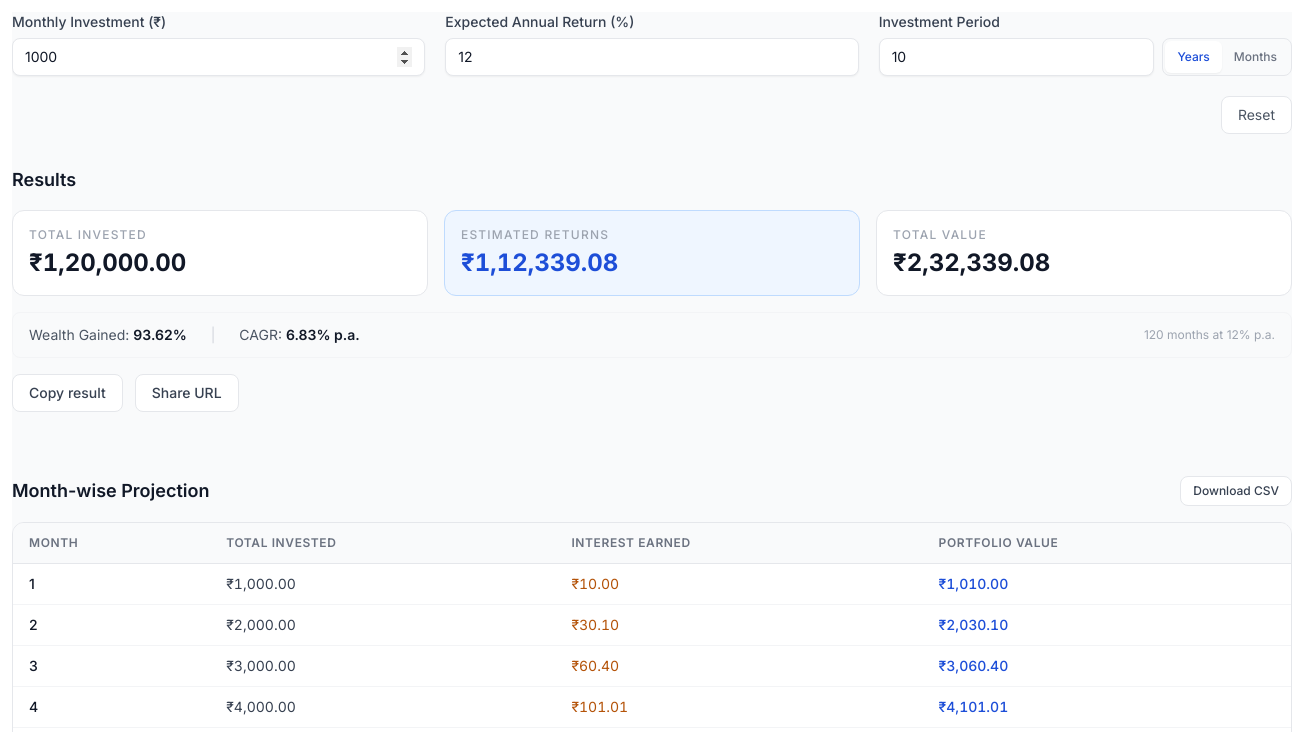
Test case: SIPCalculator › reset restores default rate (12)
Replace the text in the number field labelled "Expected Annual Return (%)" with "25": {"x": 652, "y": 57} x1=445 y1=38 x2=859 y2=76
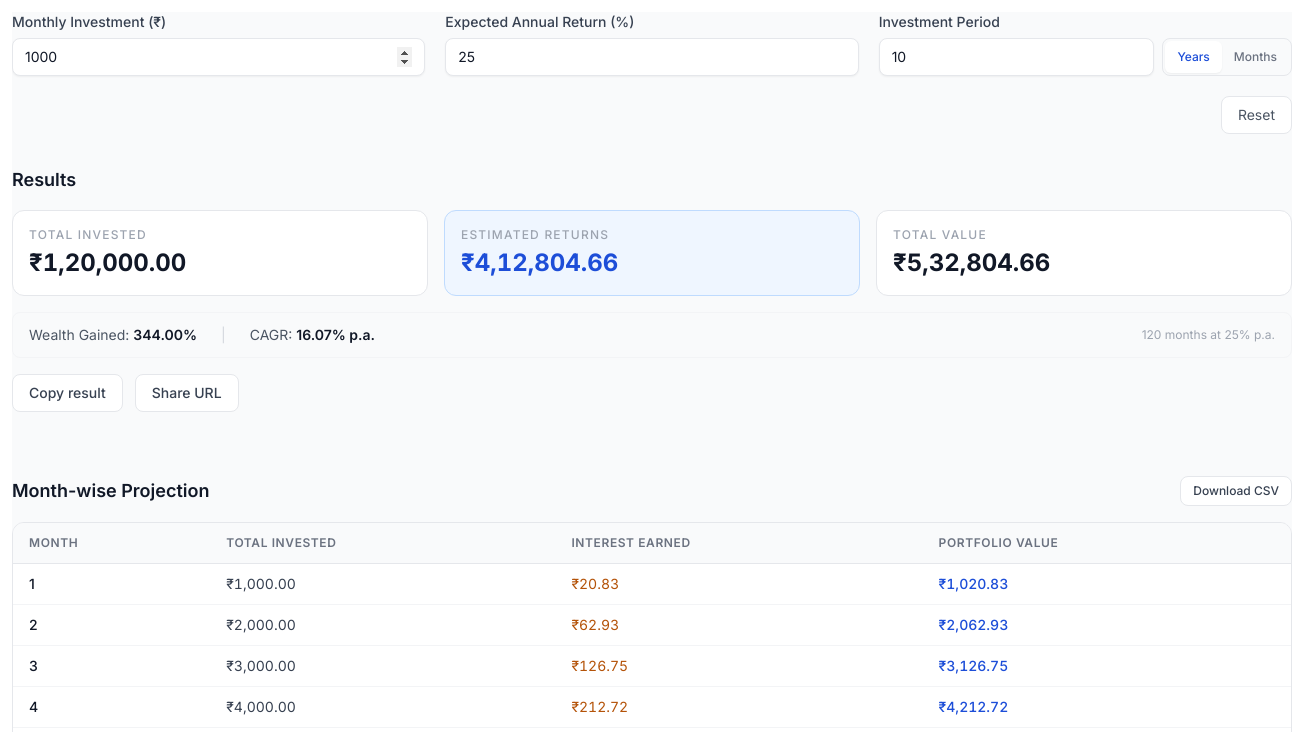
Click the button "Reset": {"x": 1256, "y": 115} x1=1221 y1=96 x2=1292 y2=134
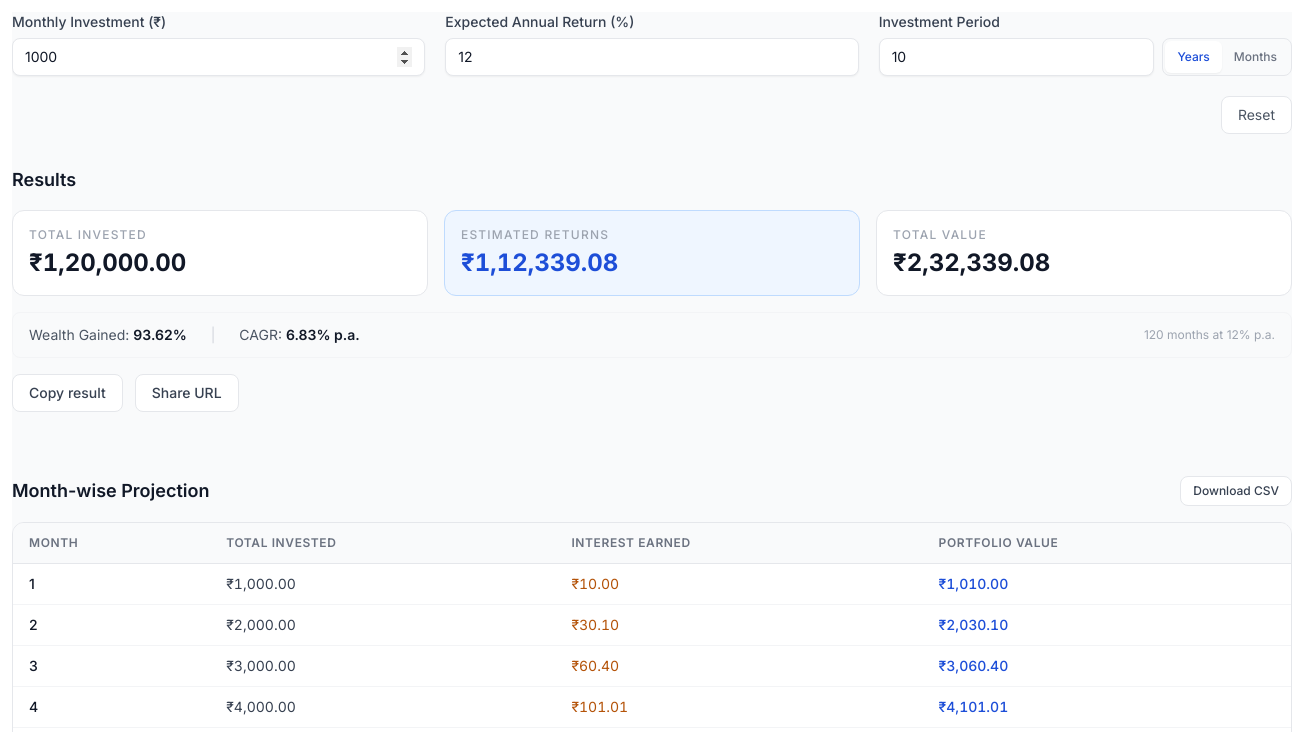
Expected: the number field labelled "Expected Annual Return (%)" holds "12", x1=445 y1=38 x2=859 y2=76
